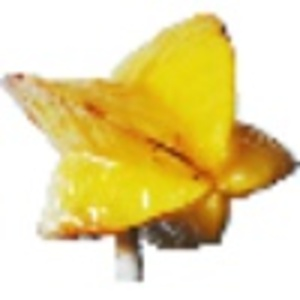carambola: (2, 11, 299, 281)
